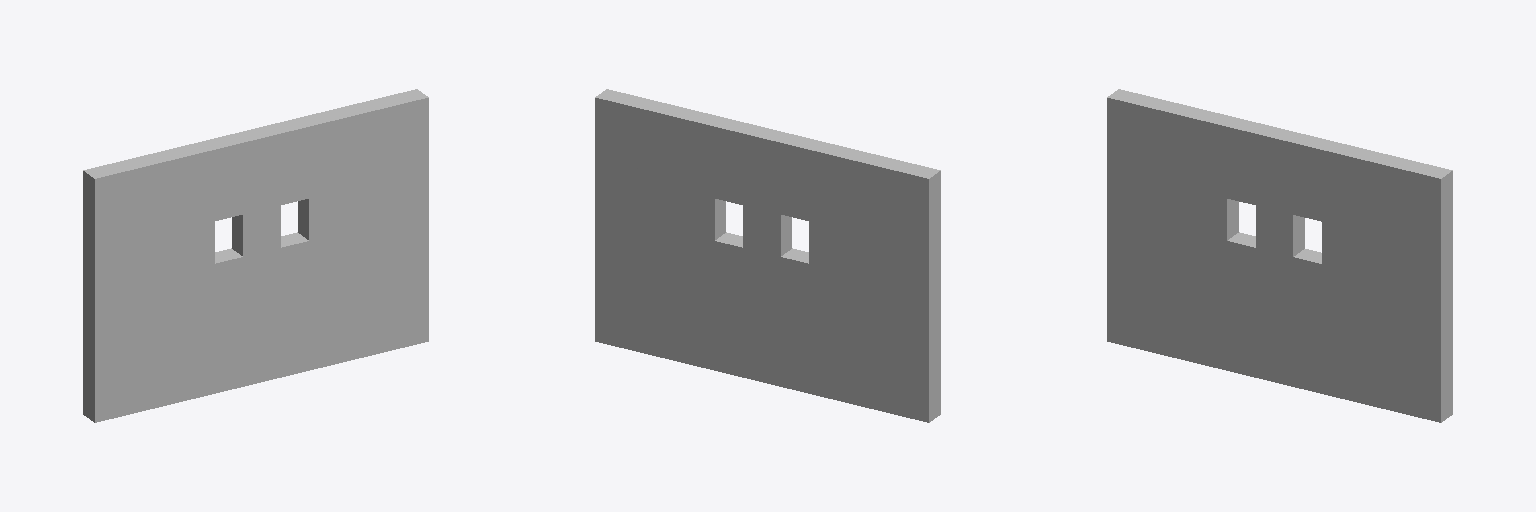
File: New Game Object (1).obj
3 views of the same model, side by side, from view 1: azimuth 30°, elevation 25°; view 2: azimuth 150°, elevation 25°; view 3: azimuth 330°, elevation 25° (orthographic).
Parts seen in each view (by area): view 1: New Game Object (1); view 2: New Game Object (1); view 3: New Game Object (1).
Part boxes in pixels (left/top/right/bottom): New Game Object (1): left=83, top=89, right=428, bottom=422; New Game Object (1): left=595, top=89, right=940, bottom=422; New Game Object (1): left=1107, top=89, right=1452, bottom=422.
Bounding box in the file's own units: 14.32 × 10 × 0.8674.